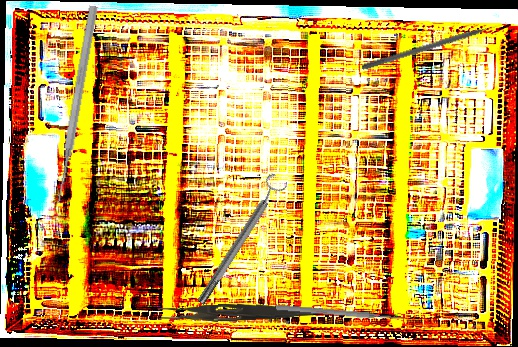Dressing Forceps: (158, 299, 316, 326)
Fixation Ring: (189, 171, 291, 309)
Pusher: (52, 4, 100, 205), (361, 20, 508, 72), (275, 303, 405, 323)
